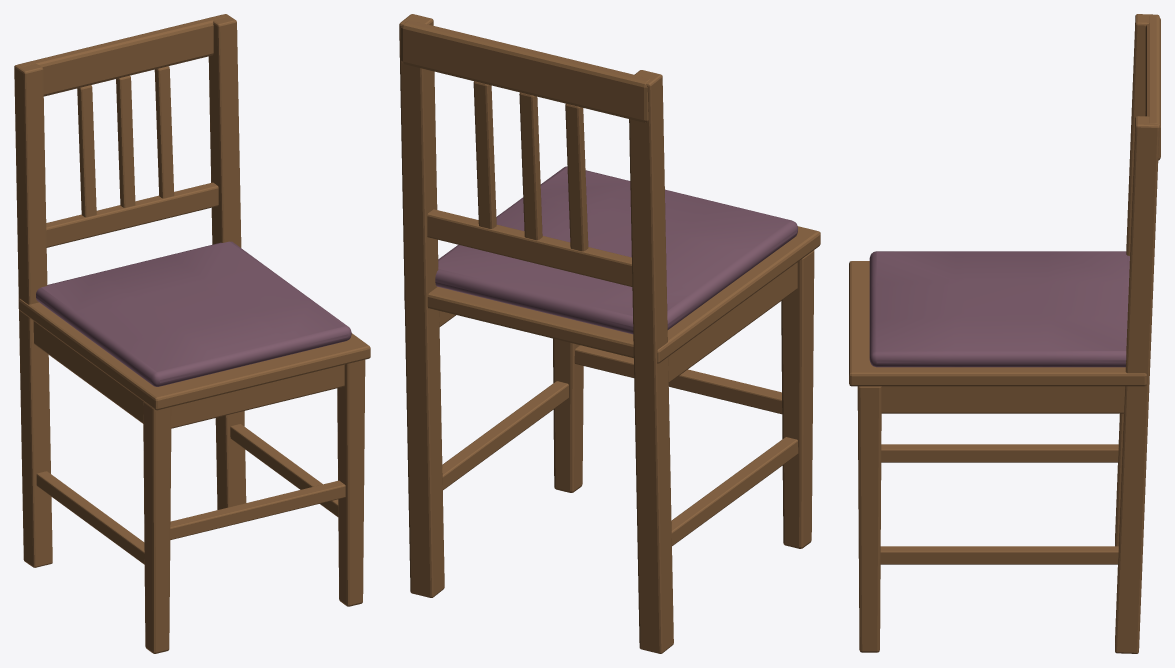
The model's file is GheAn_me.glb.
The picture shows the model from 3 angles, left to right: view 1: azimuth 30°, elevation 25°; view 2: azimuth 150°, elevation 25°; view 3: azimuth 270°, elevation 25°; orthographic projection. The views are drawn at different scales.
Visible parts, largest first — view 1: geometry_0; view 2: geometry_0; view 3: geometry_0.
Part boxes in pixels (box(x1,y1,x2,y2)): geometry_0: box(14, 14, 370, 653); geometry_0: box(399, 14, 820, 653); geometry_0: box(849, 14, 1160, 653).
Bounding box in the file's own units: 0.39 × 0.846 × 0.4519.
